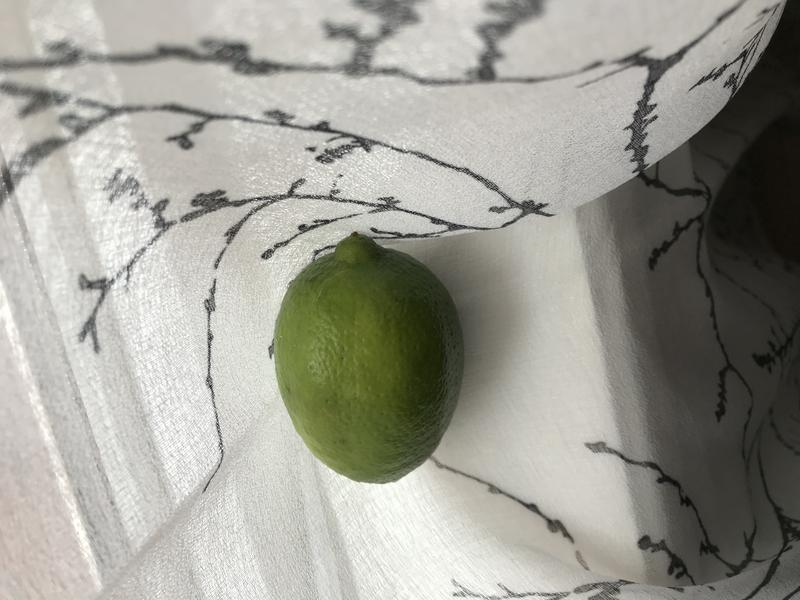lime: (255, 225, 469, 499)
